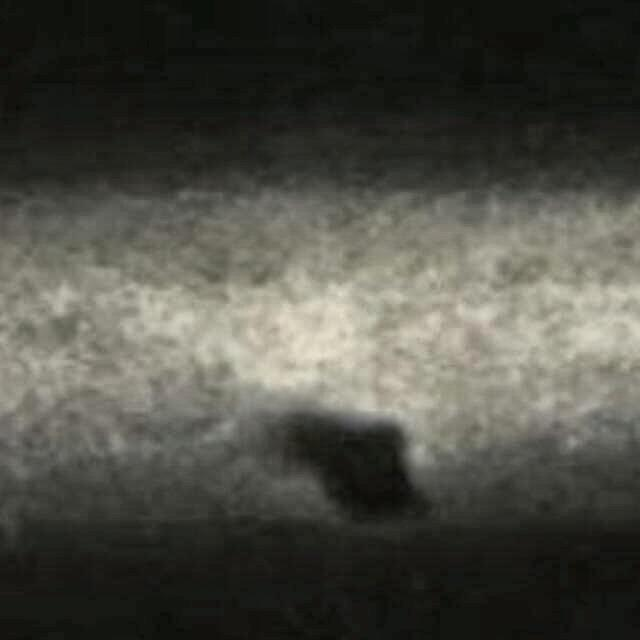Slag: (231, 384, 464, 535)
